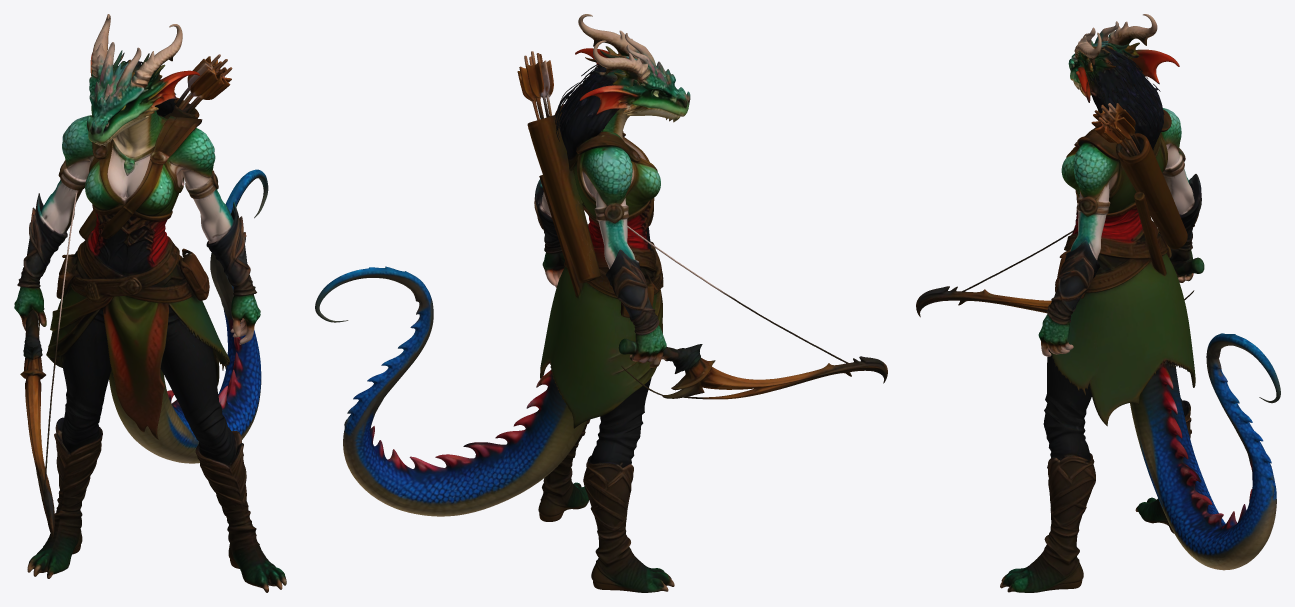
Rendered from dragonborn_ranger_full_female_01.glb.
3 renders of one model, left to right at view 1: azimuth 30°, elevation 25°; view 2: azimuth 150°, elevation 25°; view 3: azimuth 270°, elevation 25°, orthographic. The views are drawn at different scales.
Visible parts, largest first — view 1: material; view 2: material; view 3: material.
Part boxes in pixels (bbox=[...]): material: bbox=[14, 14, 286, 592]; material: bbox=[315, 14, 887, 592]; material: bbox=[916, 14, 1280, 592].
Size of the model in its own units: 0.8497 by 1.1 by 0.6864.
Materials: 1 (1 with a texture image).
